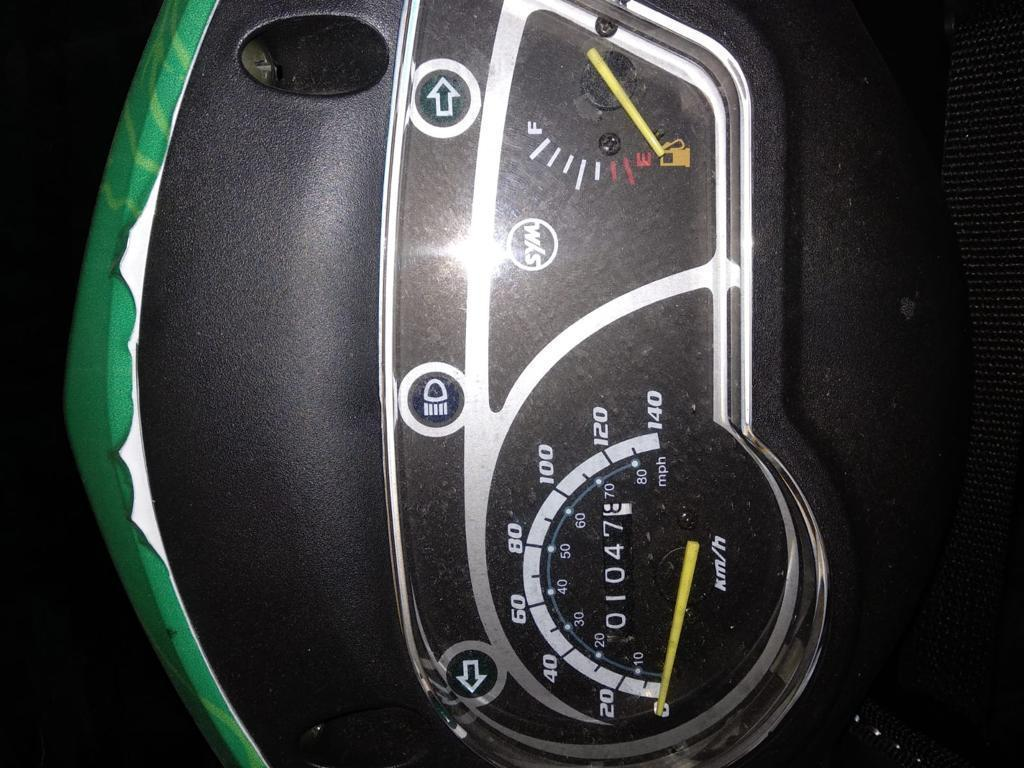0: (601, 563, 626, 584), (603, 610, 628, 630), (595, 630, 605, 639)
1: (600, 590, 628, 605)
4: (601, 540, 625, 561)
7: (599, 518, 628, 538)
8: (602, 499, 625, 515)
odometer: (594, 497, 639, 638)
